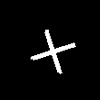single_crochet: (31, 30, 75, 73)
